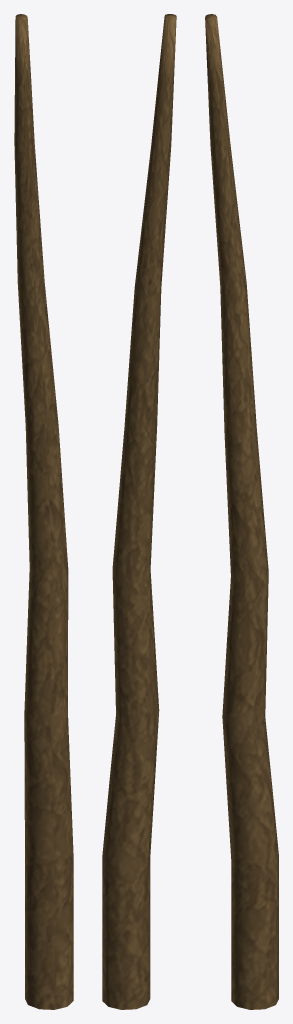
Rendered from tree0.obj.
3 renders of one model, left to right at view 1: azimuth 30°, elevation 25°; view 2: azimuth 150°, elevation 25°; view 3: azimuth 330°, elevation 25°, orthographic.
Parts seen in each view (by area): view 1: Trank.001_Trank_0; view 2: Trank.001_Trank_0; view 3: Trank.001_Trank_0.
Boxes of the visible parts, x1,y1,x2,y2 form: Trank.001_Trank_0: [14, 14, 73, 1009]; Trank.001_Trank_0: [102, 14, 176, 1009]; Trank.001_Trank_0: [205, 14, 278, 1009].
Size of the model in its own units: 0.3821 by 5.81 by 0.2772.
